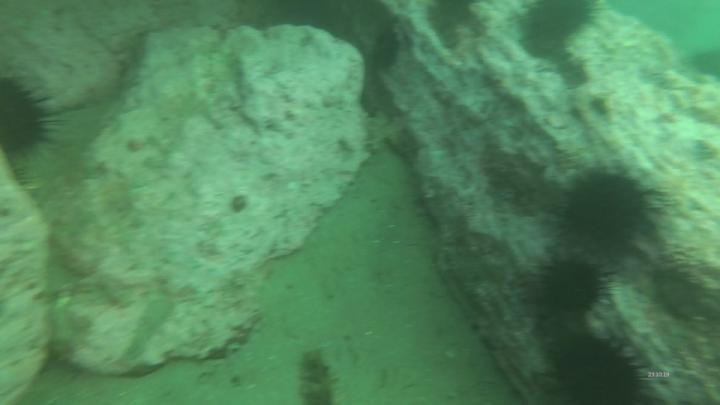echinus: (548, 156, 677, 266), (513, 320, 679, 403), (518, 245, 623, 329), (1, 67, 69, 172), (509, 1, 616, 64)
